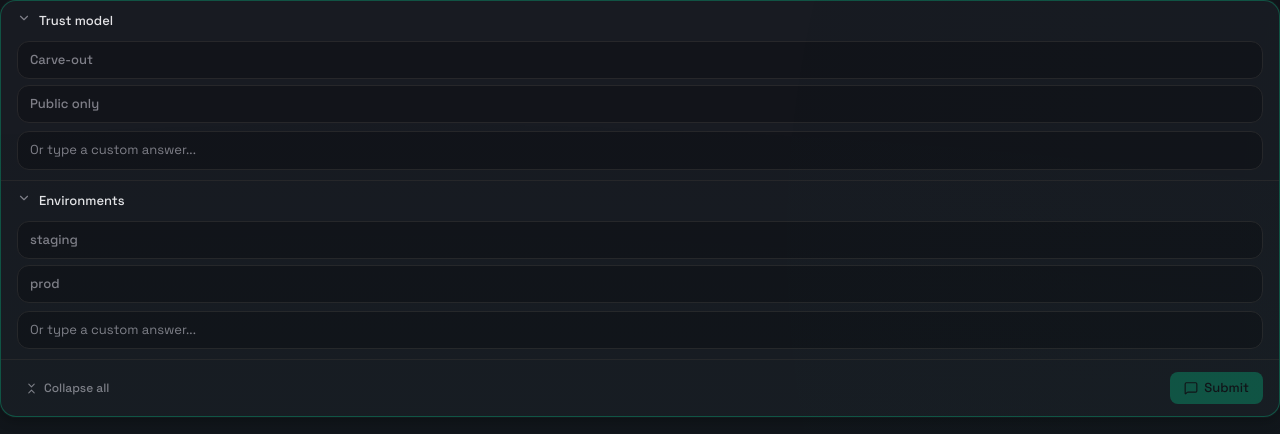
Scenario: QuestionCard — collapsing › auto-folds an answered question on a multi-question card
Click the button "Carve-out" at (62, 60), box [17, 41, 1263, 79]
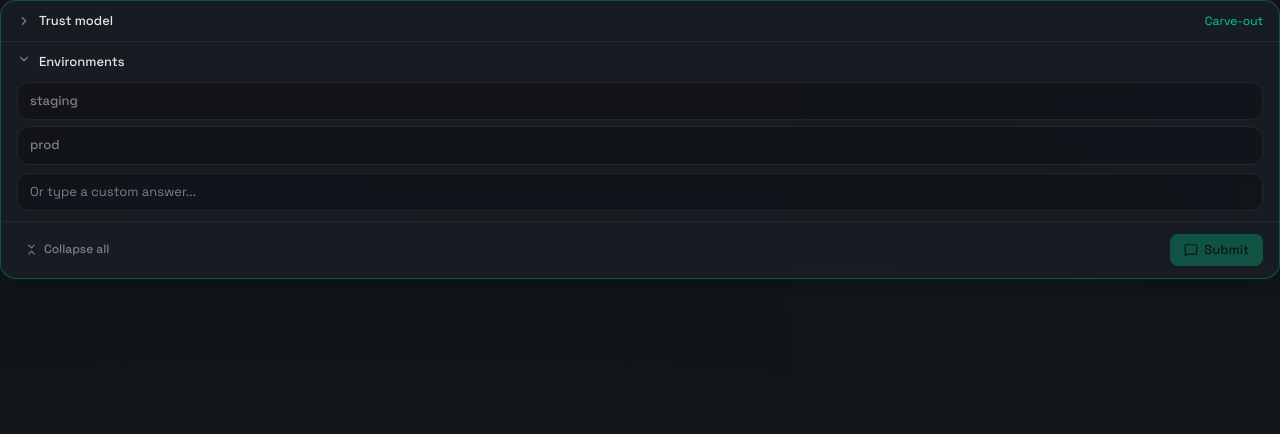
Expected: the text "staging" is shown, [30, 92, 78, 109]
Expected: the button "Public only" is gone
